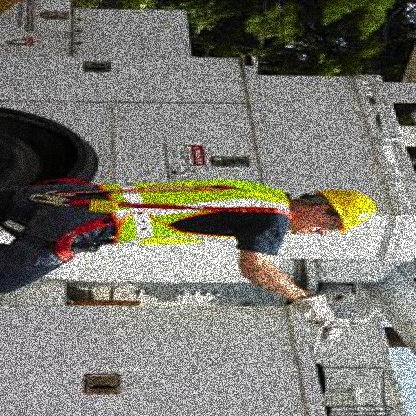vest: (100, 173, 298, 249)
yellow: (318, 187, 389, 237)
